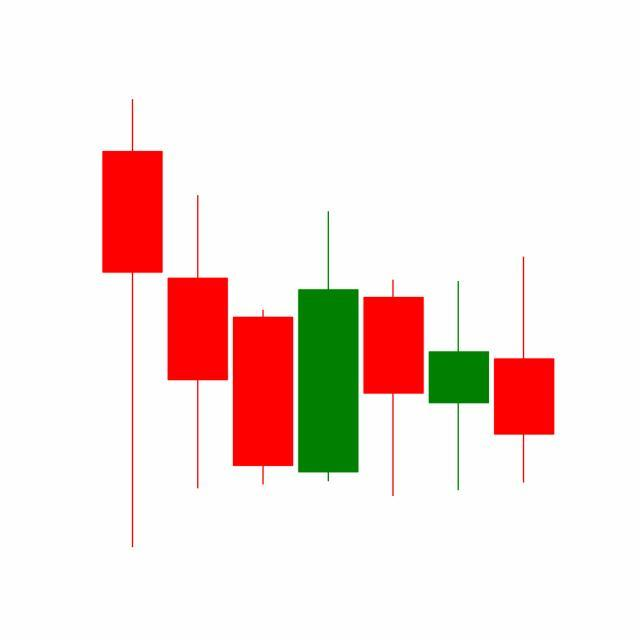Hikkake Pattern: (229, 209, 555, 501)
